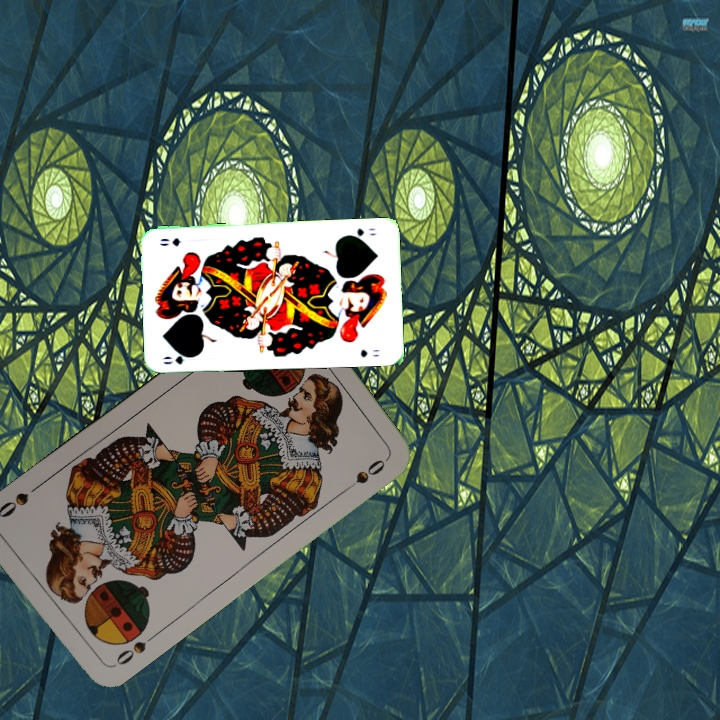GO: (159, 349, 199, 367), (343, 224, 379, 241)
SO: (107, 637, 149, 671)
